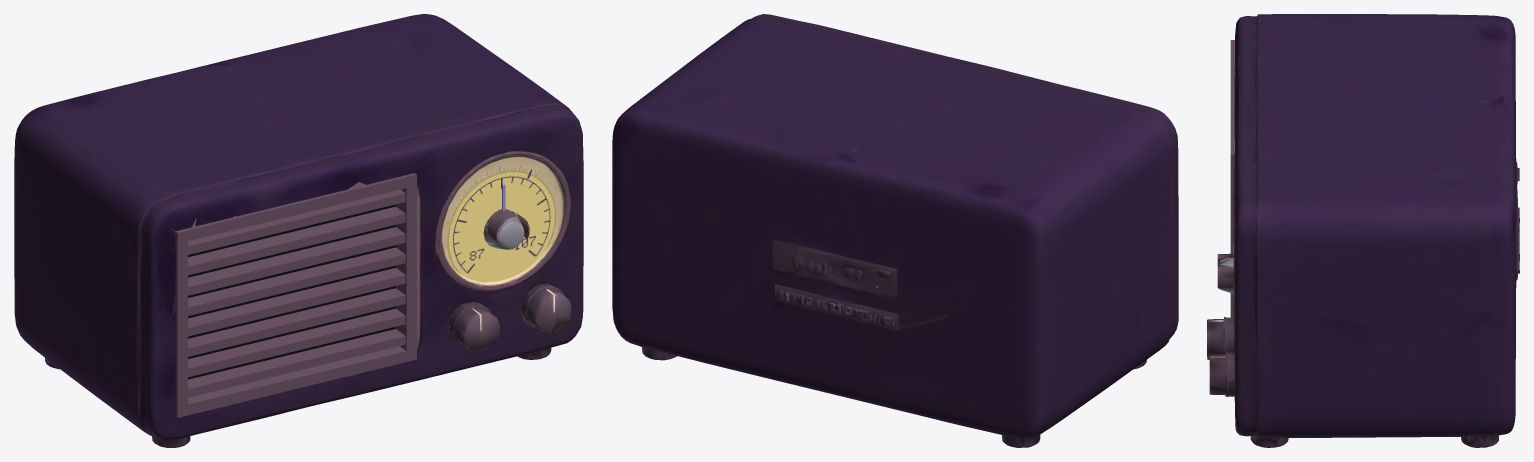
The model's file is radio.glb.
3 renders of one model, left to right at view 1: azimuth 30°, elevation 25°; view 2: azimuth 150°, elevation 25°; view 3: azimuth 270°, elevation 25°, orthographic.
Parts seen in each view (by area): view 1: body, dial, knob_left, knob_right; view 2: body; view 3: body, knob_right, knob_left.
Part boxes in pixels (x1,y1,x2,y2): body: (14, 14, 583, 447); dial: (447, 170, 556, 282); knob_left: (448, 301, 499, 351); knob_right: (524, 283, 571, 332); body: (612, 14, 1178, 447); body: (1217, 14, 1519, 447); knob_right: (1209, 351, 1234, 397); knob_left: (1207, 317, 1233, 359).
Size of the model in its own units: 0.27 by 0.1475 by 0.1686.
Materials: 3 (3 with a texture image).
